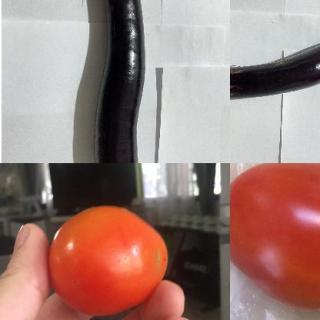Tomat: (37, 197, 180, 320), (231, 163, 320, 309)
